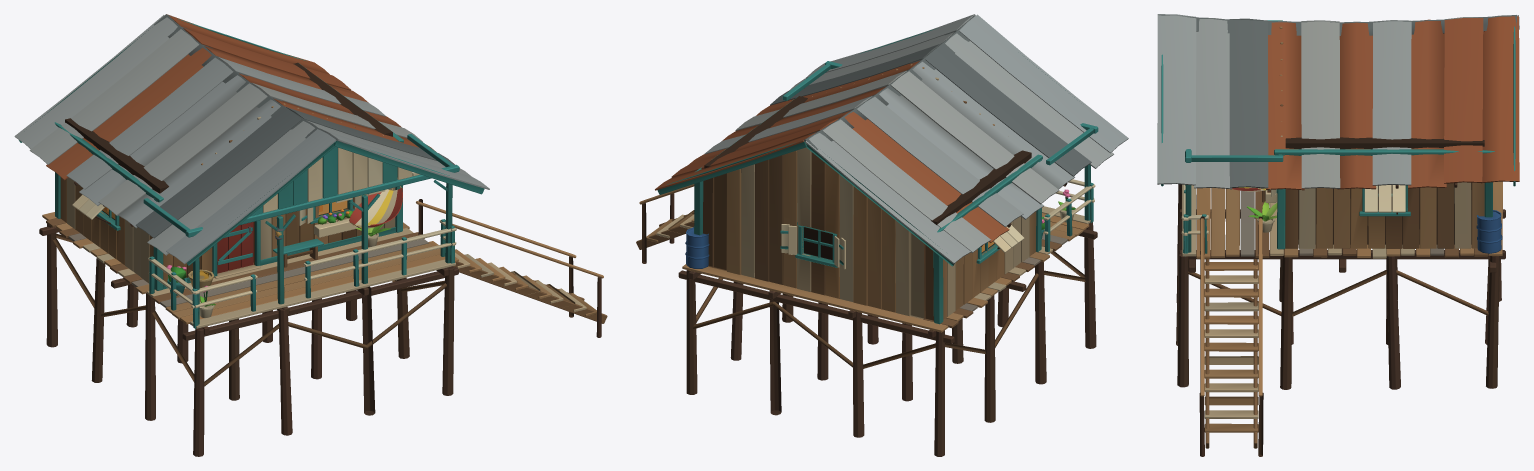
File: stilt_house_a.glb
3 renders of one model, left to right at view 1: azimuth 30°, elevation 25°; view 2: azimuth 150°, elevation 25°; view 3: azimuth 270°, elevation 25°, orthographic. The views are drawn at different scales.
Visible parts, largest first — view 1: stilt_house_a; view 2: stilt_house_a; view 3: stilt_house_a.
Part boxes in pixels (x1,y1,x2,y2): stilt_house_a: (14,14,607,456); stilt_house_a: (636,14,1128,456); stilt_house_a: (1157,14,1519,456).
Bounding box in the file's own units: 13.1 × 8.19 × 8.73.
